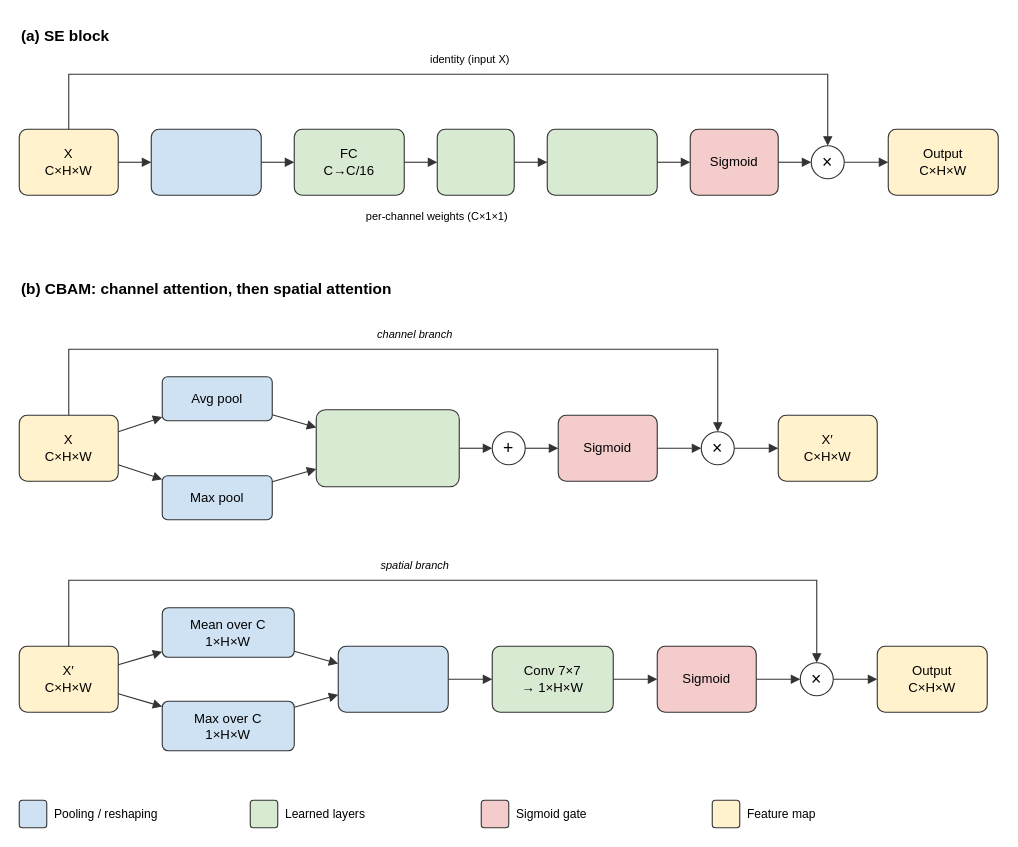
The diagram is 1018 pixels wide and 847 high, and some of its shapes have lost their labels. Each missing label, with the box of its shape:
Concat 2×H×W: (337, 645, 448, 712)
FC C/16→C: (546, 128, 657, 195)
Global avg pool: (150, 128, 261, 195)
ReLU: (436, 128, 514, 195)
Shared MLP C→C/16→C: (315, 409, 459, 487)
